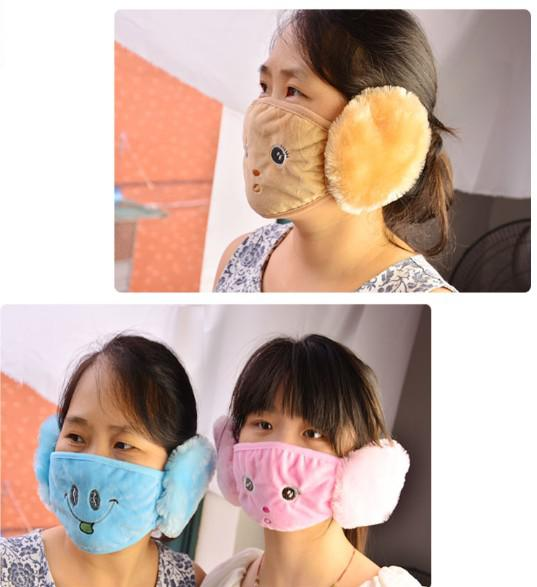OK: (241, 61, 391, 221), (223, 397, 357, 531), (41, 409, 173, 544)
